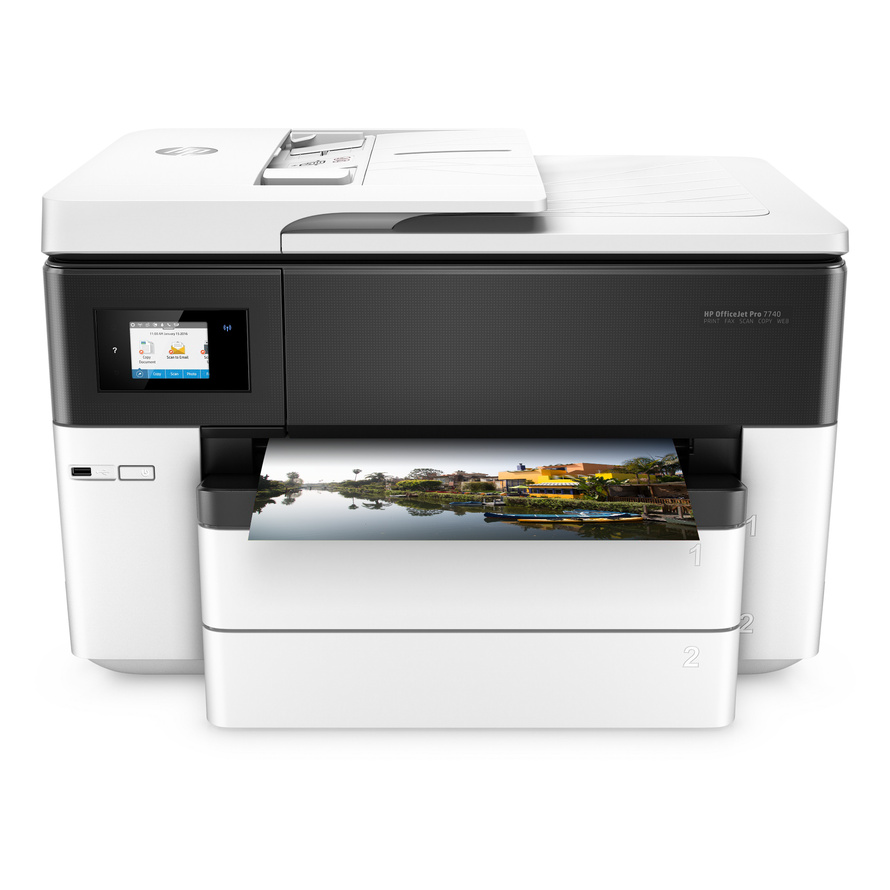printer: (32, 123, 854, 738)
